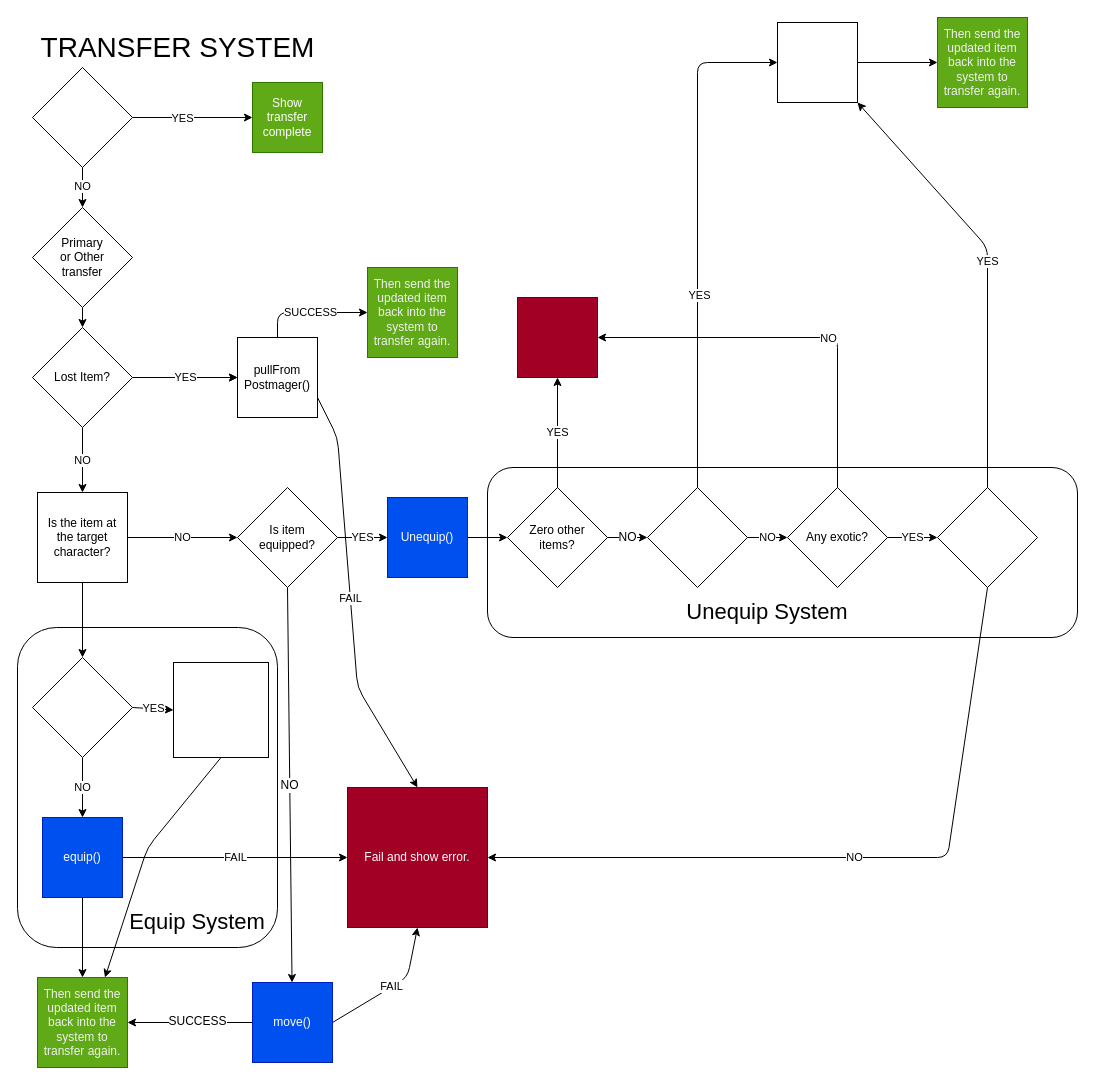
This 1095x1085 diagram has some shape labels left out. Each missing label, with the centre of its shape:
Are any non exotic to equip?: pixel 697 537
Can this exotic be equipped?: pixel 987 537
Create an equip transfer for the 'other' part of the transferBundle: pixel 817 62
Create an unblocking unequip transfer for the 'other' part of the transferBundle: pixel 220 710
Fail and show error "there needs to be another item": pixel 557 337
Is this exotic and blocked: pixel 82 707
Is Transfer complete?: pixel 82 117
